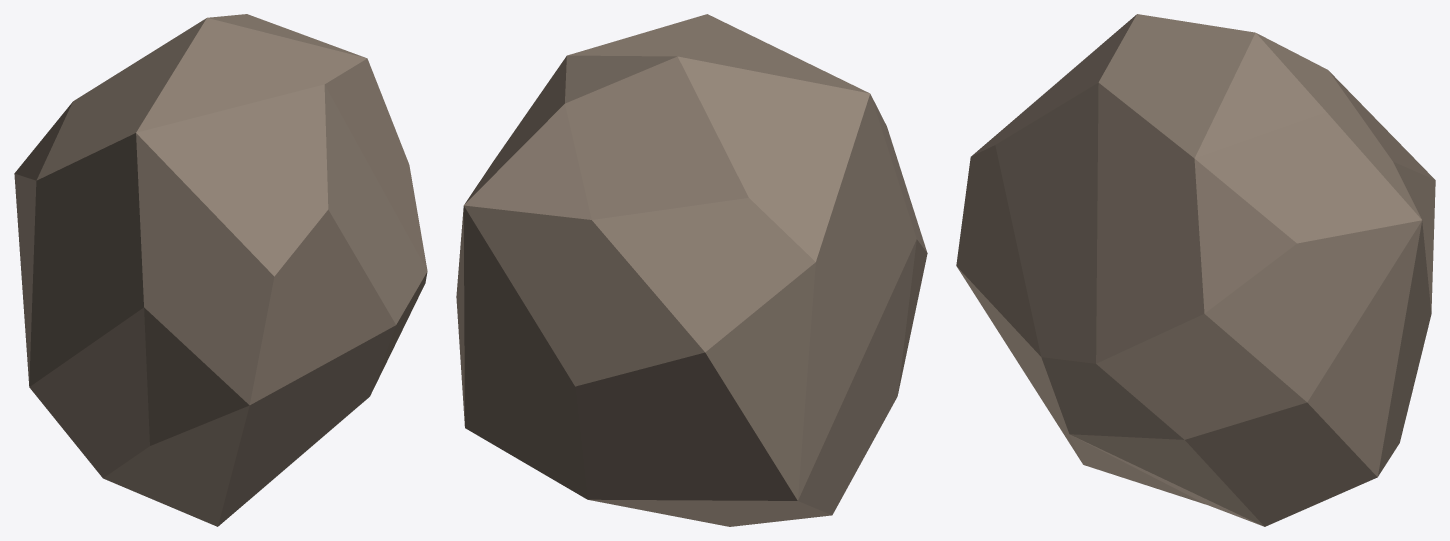
Rendered from SmallStone_Mesh.fbx.
3 views of the same model, side by side, from view 1: azimuth 30°, elevation 25°; view 2: azimuth 150°, elevation 25°; view 3: azimuth 270°, elevation 25° (orthographic). The views are drawn at different scales.
Visible parts, largest first — view 1: StoneSmall_Mesh; view 2: StoneSmall_Mesh; view 3: StoneSmall_Mesh.
Part boxes in pixels (x1,y1,x2,y2): StoneSmall_Mesh: (14,14,427,526); StoneSmall_Mesh: (456,14,927,526); StoneSmall_Mesh: (956,14,1435,526).
Bounding box in the file's own units: 47.39 × 60.81 × 54.25.
